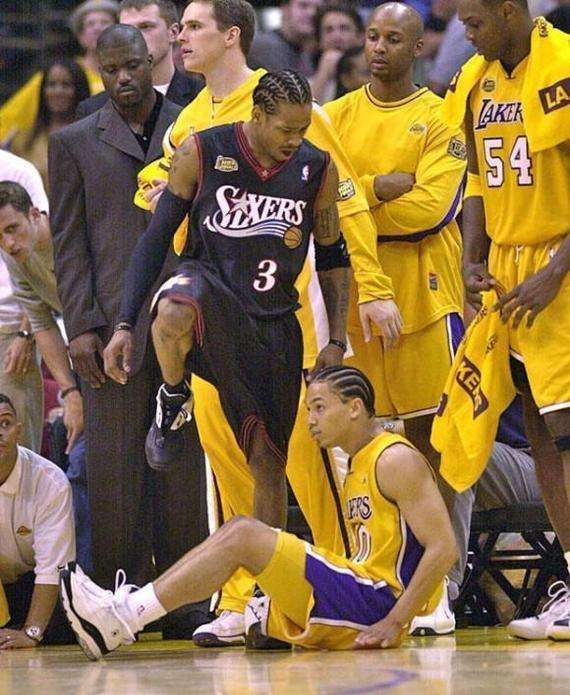10+: (4, 5, 570, 647)
down: (45, 354, 466, 660)
